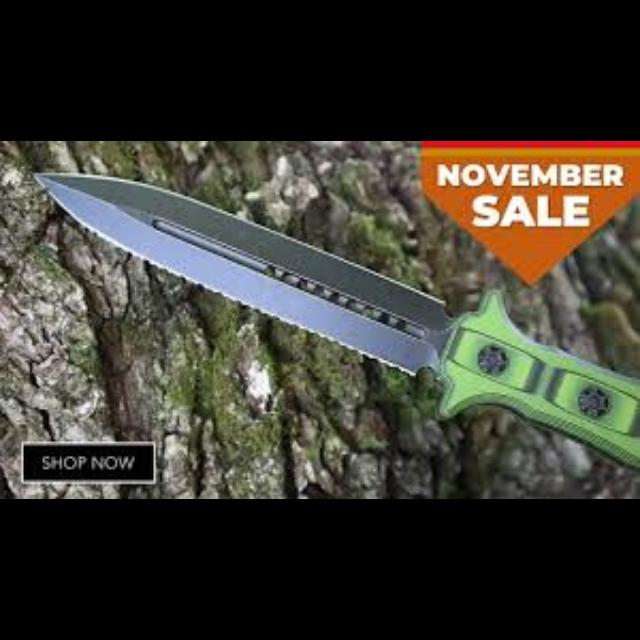Knife: (32, 169, 638, 469)
